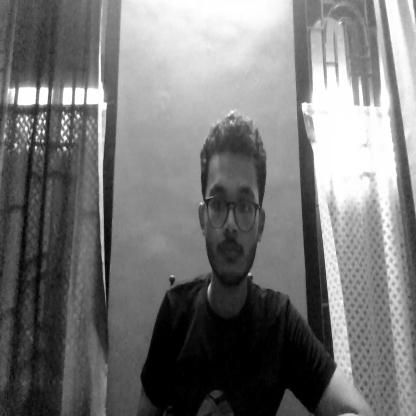Normal: (197, 108, 262, 284)
